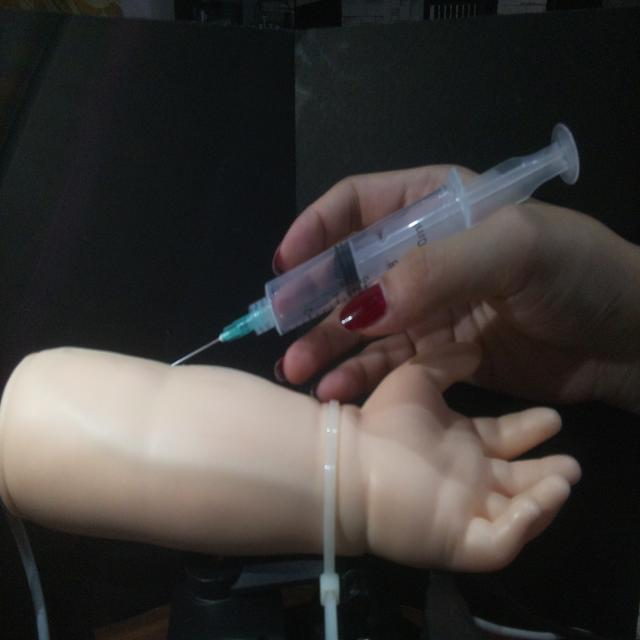23deg: (166, 118, 583, 370)
